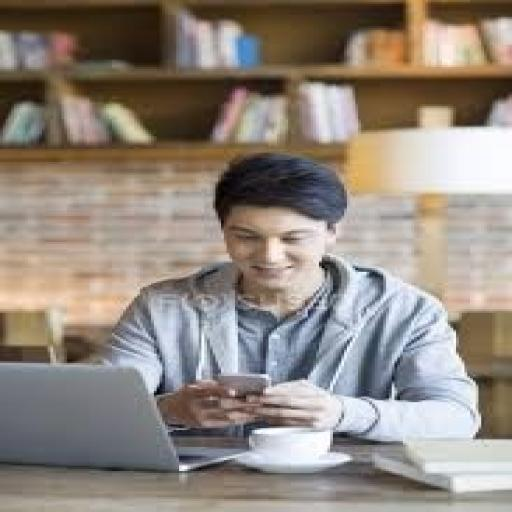texting: (92, 149, 484, 443)
